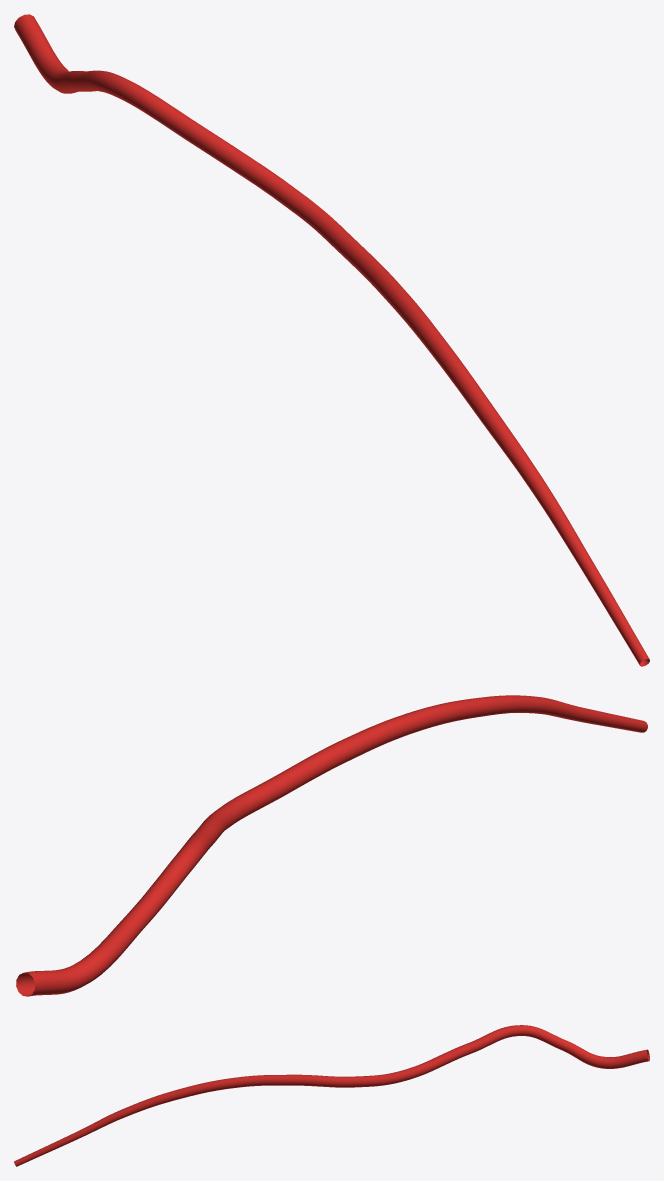
File: circulatorio-medial-plantar-artery-r.glb
The picture shows the model from 3 angles, top to bottom: view 1: azimuth 30°, elevation 25°; view 2: azimuth 150°, elevation 25°; view 3: azimuth 270°, elevation 25°; orthographic projection. The views are drawn at different scales.
Parts seen in each view (by area): view 1: Superficial branch of medial plantar artery.r, Medial plantar artery.r; view 2: Superficial branch of medial plantar artery.r, Medial plantar artery.r; view 3: Superficial branch of medial plantar artery.r, Medial plantar artery.r.
Boxes of the visible parts, x1=… form: Superficial branch of medial plantar artery.r: x1=295, y1=198, x2=649, y2=666; Medial plantar artery.r: x1=14, y1=14, x2=307, y2=215; Superficial branch of medial plantar artery.r: x1=226, y1=695, x2=647, y2=822; Medial plantar artery.r: x1=16, y1=803, x2=240, y2=996; Superficial branch of medial plantar artery.r: x1=14, y1=1071, x2=401, y2=1166; Medial plantar artery.r: x1=399, y1=1025, x2=649, y2=1081.
Bounding box in the file's own units: 0.0093 × 0.0235 × 0.1044.
